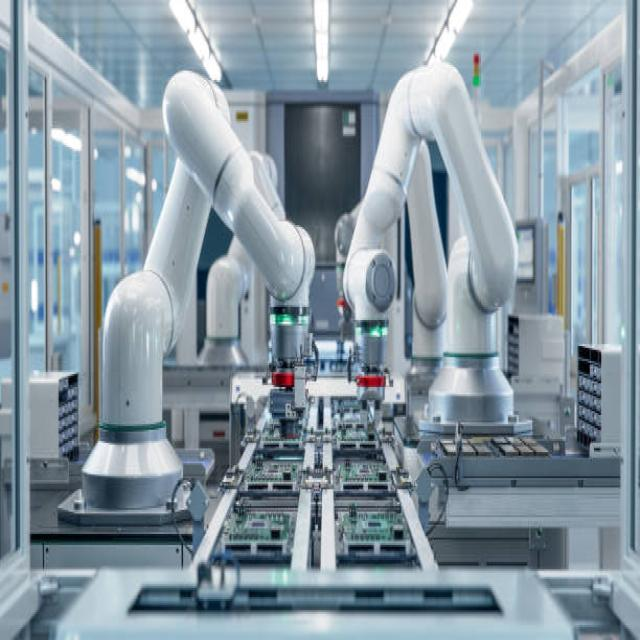Robotic-arm: (96, 62, 315, 499), (341, 56, 523, 428)
